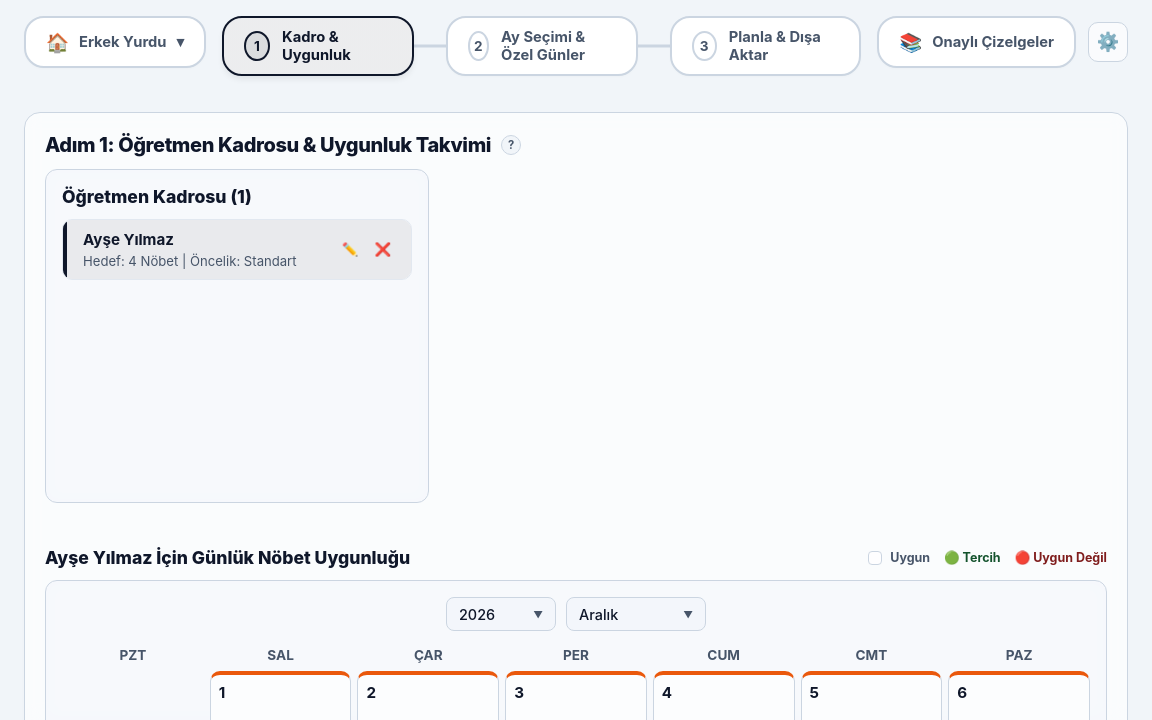
Scenario: choosing a duty post › renames the selected post
Expected: the heading "Öğretmen Kadrosu (1)" is shown, [62, 186, 252, 207]
Click the button with aria-label "Nöbet yeri: ". click: click(115, 42)
box: [24, 16, 206, 68]
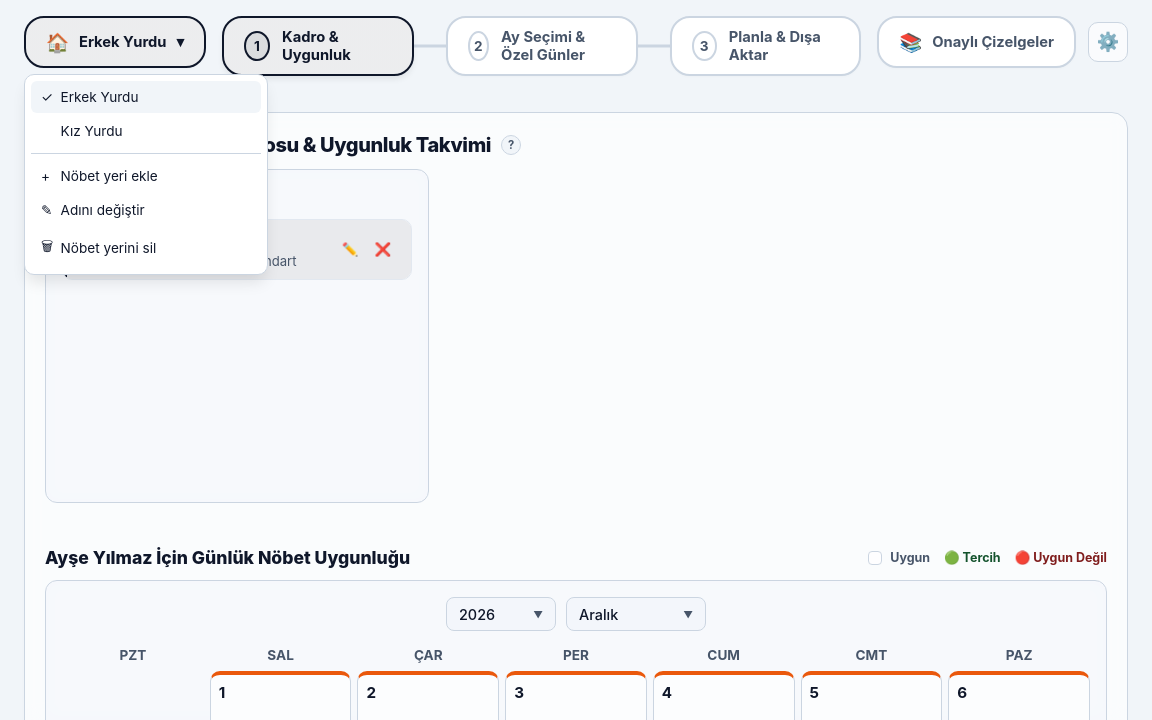
Click the menu item "✎ Adını değiştir". click: click(146, 210)
box: [31, 194, 261, 226]
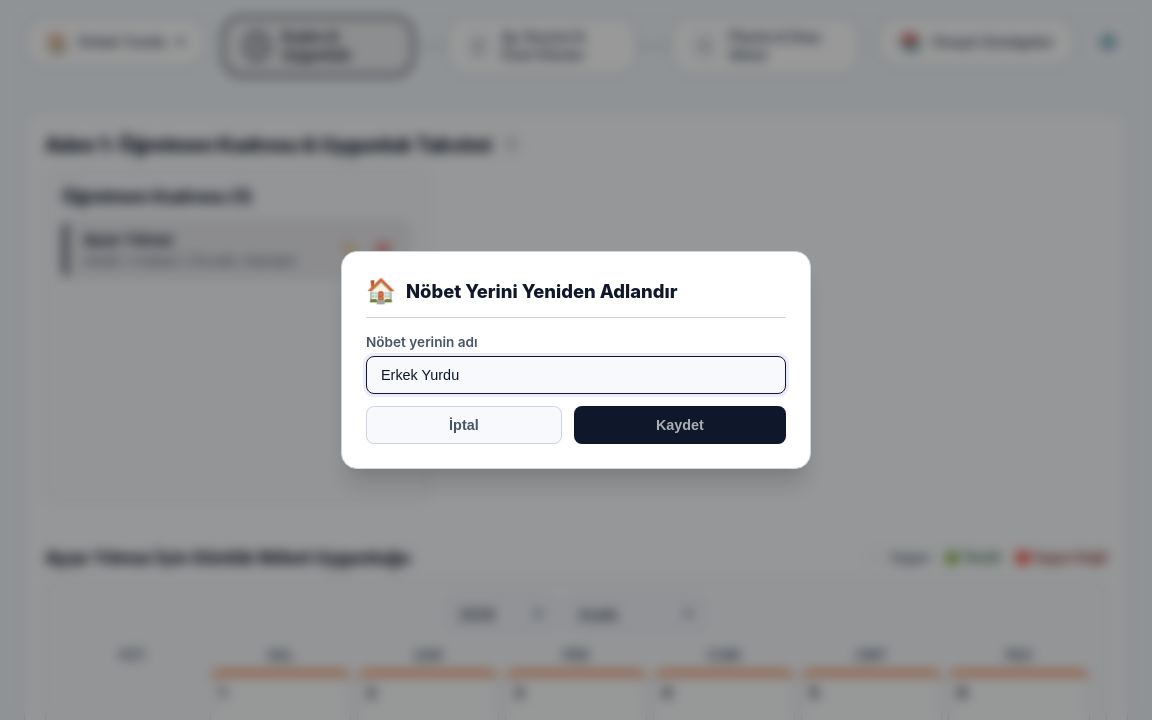
Expected: the field labelled "Nöbet yerinin adı" holds "Erkek Yurdu"
Replace the text in the field labelled "Nöbet yerinin adı" with "Erkek Pansiyonu". click: (576, 375)
box: [366, 356, 786, 394]
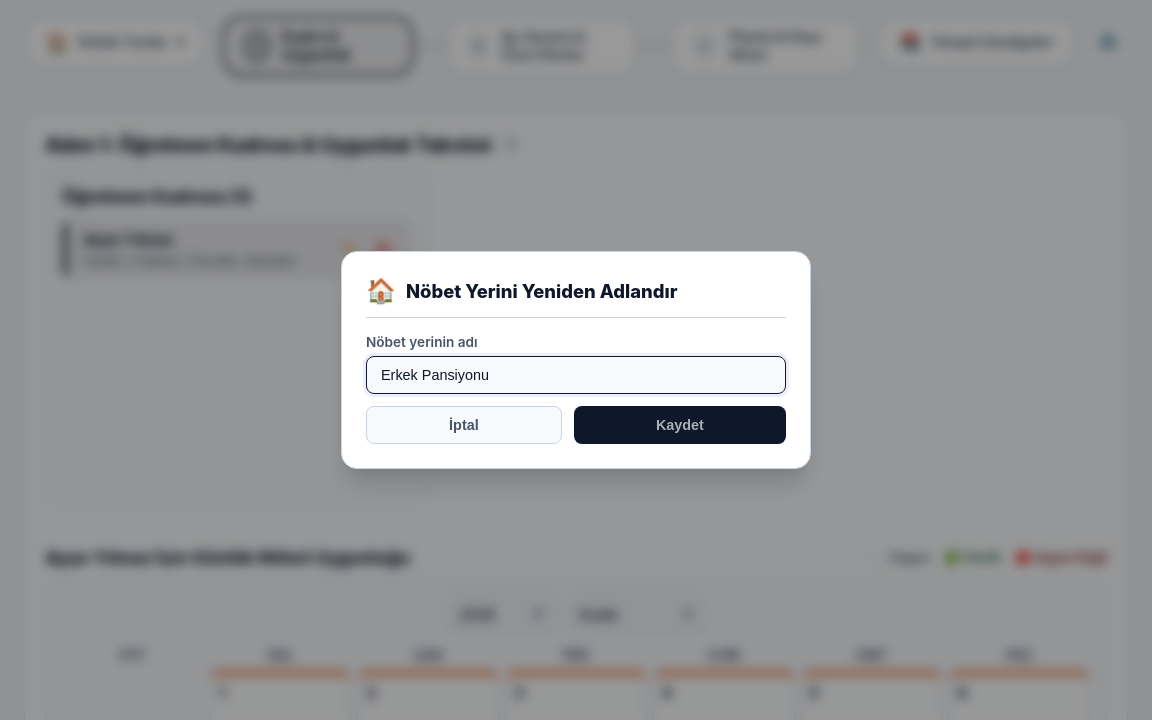
Click the button "Kaydet". click: click(680, 425)
box: [574, 406, 786, 444]
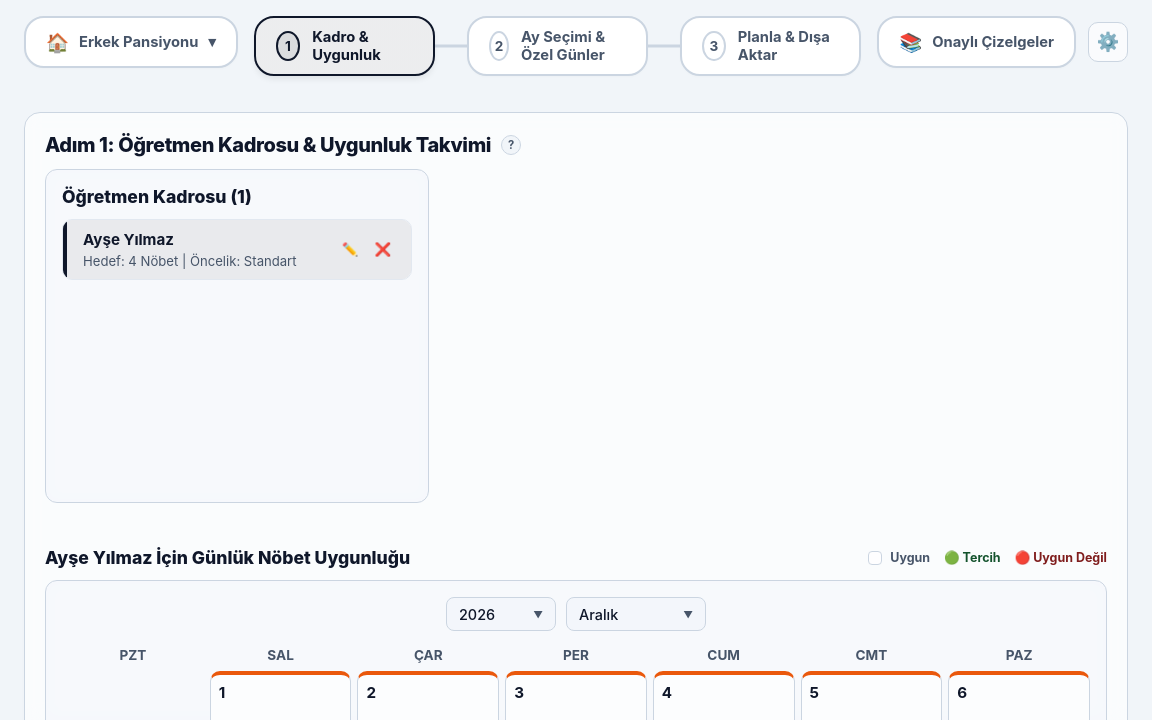
Expected: the button with aria-label "Nöbet yeri: Erkek Pansiyonu" is shown, [24, 16, 238, 68]
